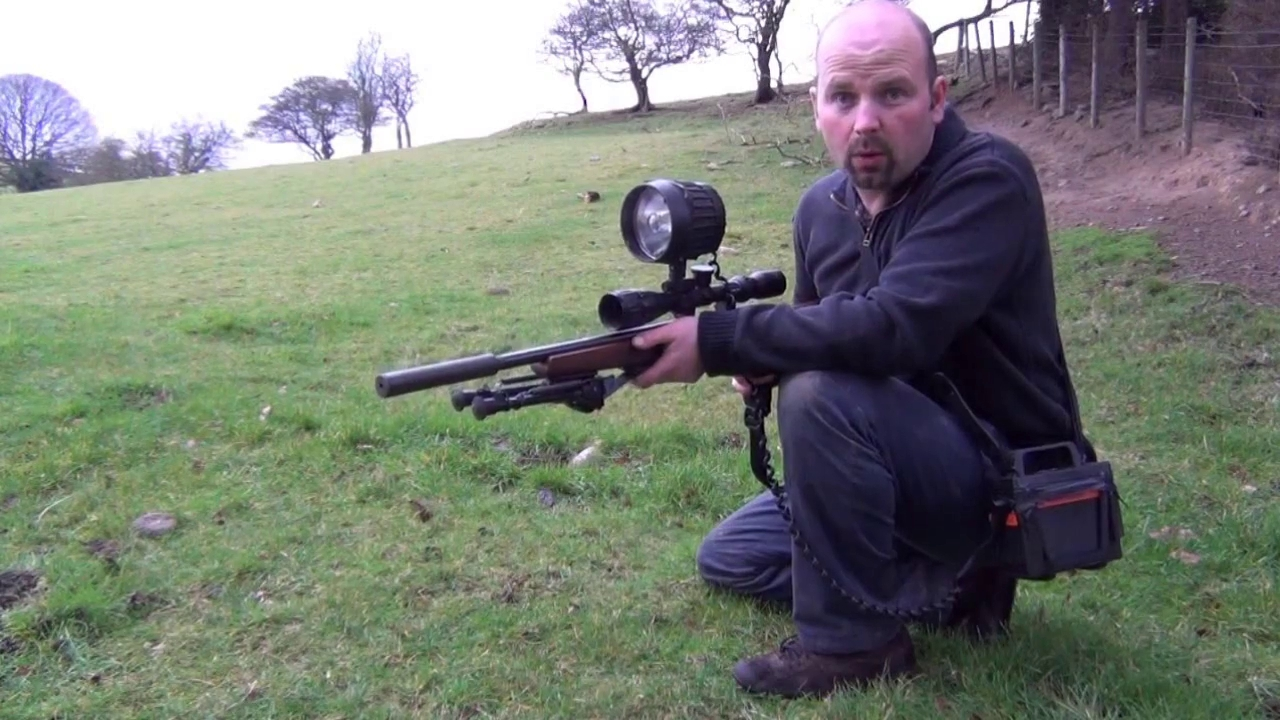person: (632, 1, 1123, 700)
